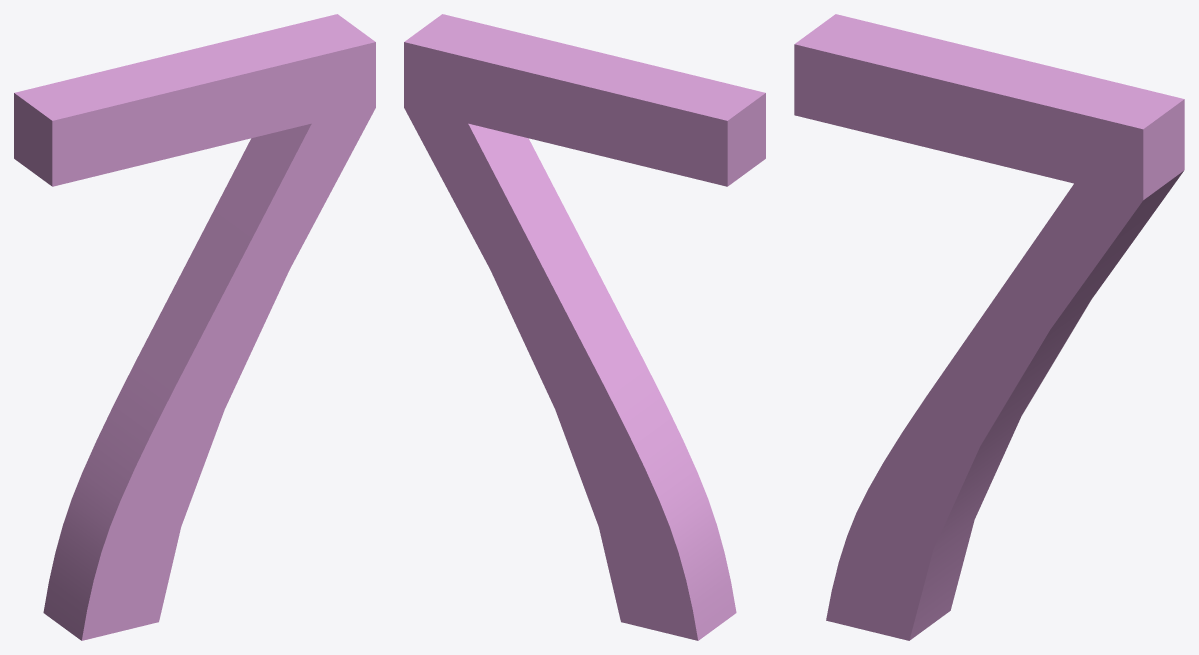
Rendered from yedi.fbx.
The picture shows the model from 3 angles, left to right: view 1: azimuth 30°, elevation 25°; view 2: azimuth 150°, elevation 25°; view 3: azimuth 330°, elevation 25°; orthographic projection. The views are drawn at different scales.
Visible parts, largest first — view 1: typeMesh1; view 2: typeMesh1; view 3: typeMesh1.
Part boxes in pixels (x1,y1,x2,y2): typeMesh1: (14,14,375,640); typeMesh1: (404,14,765,640); typeMesh1: (794,14,1184,640).
Size of the model in its own units: 6.82 by 10.62 by 1.4.
